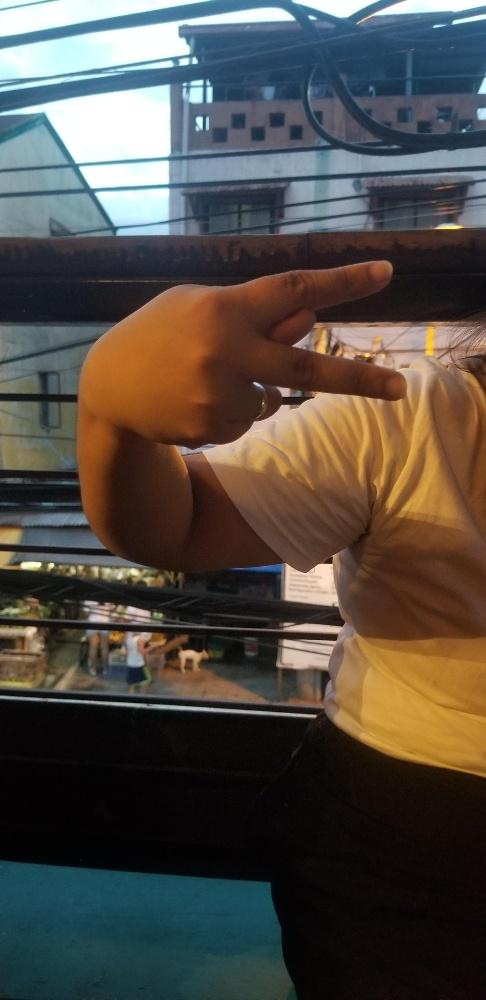k: (77, 253, 404, 447)
